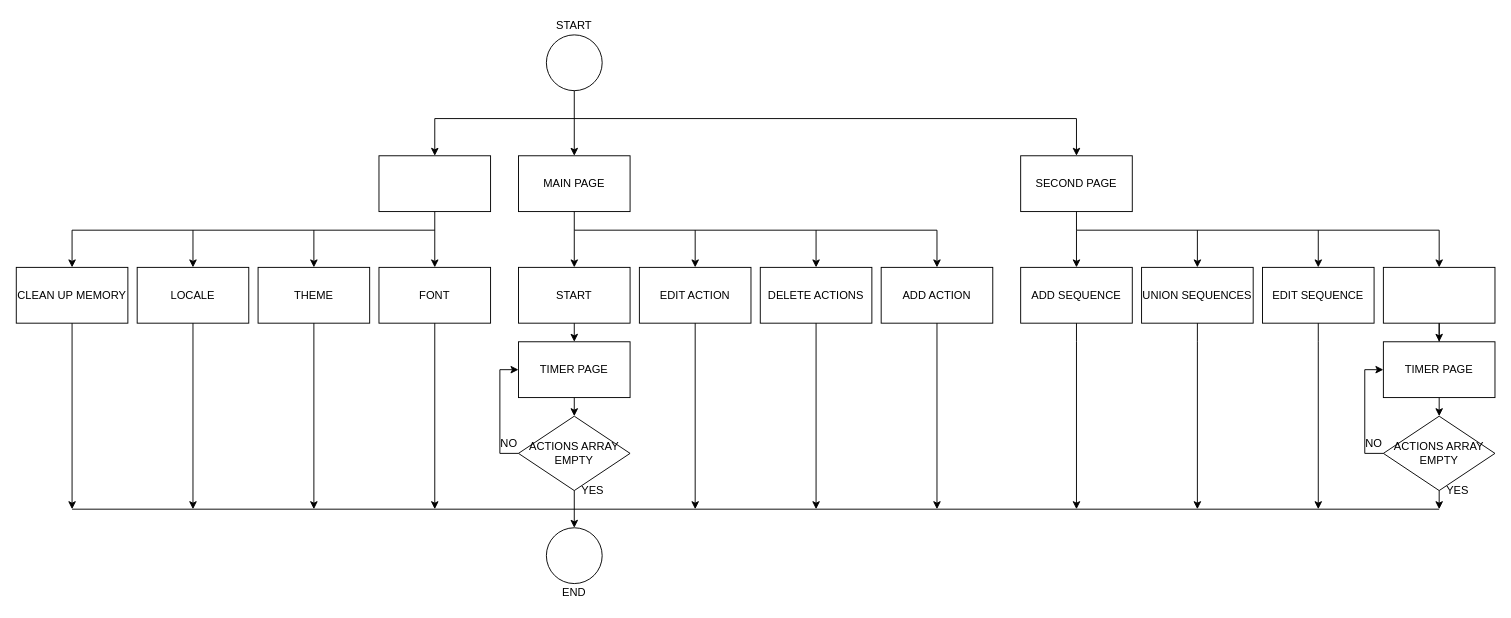
This 1511x618 diagram has some shape labels left out. The shapes that lost their labels are listed below. From the top down, each one's centre as x and y in pixels, then its label:
At point (434, 183): "SETTINGS".
At point (1438, 294): "START SEQUENCE".
